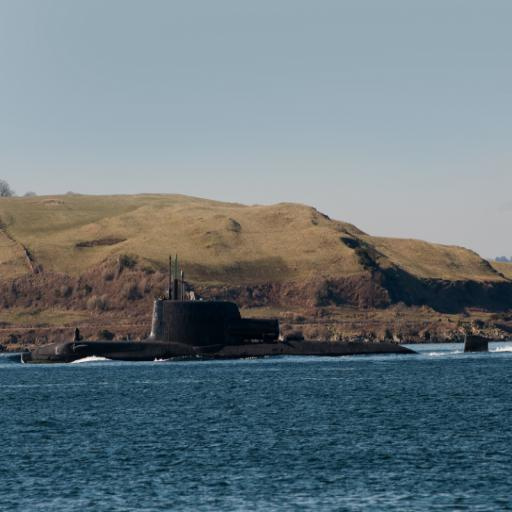submarine: (25, 299, 489, 364)
